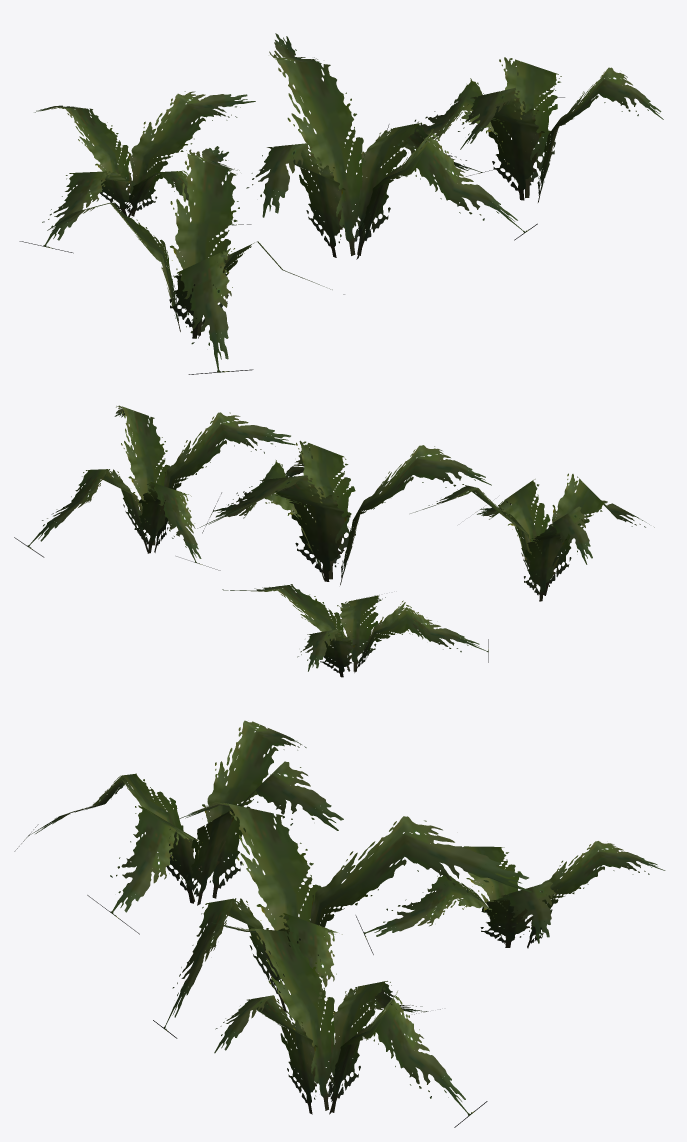
The picture shows the model from 3 angles, top to bottom: view 1: azimuth 30°, elevation 25°; view 2: azimuth 150°, elevation 25°; view 3: azimuth 270°, elevation 25°; orthographic projection. The views are drawn at different scales.
Parts seen in each view (by area): view 1: Grass05; view 2: Grass05; view 3: Grass05.
Part boxes in pixels (left/top/right/bottom): Grass05: left=19, top=33, right=663, bottom=374; Grass05: left=14, top=405, right=654, bottom=677; Grass05: left=14, top=720, right=665, bottom=1127.
Size of the model in its own units: 322 by 87.3 by 275.
